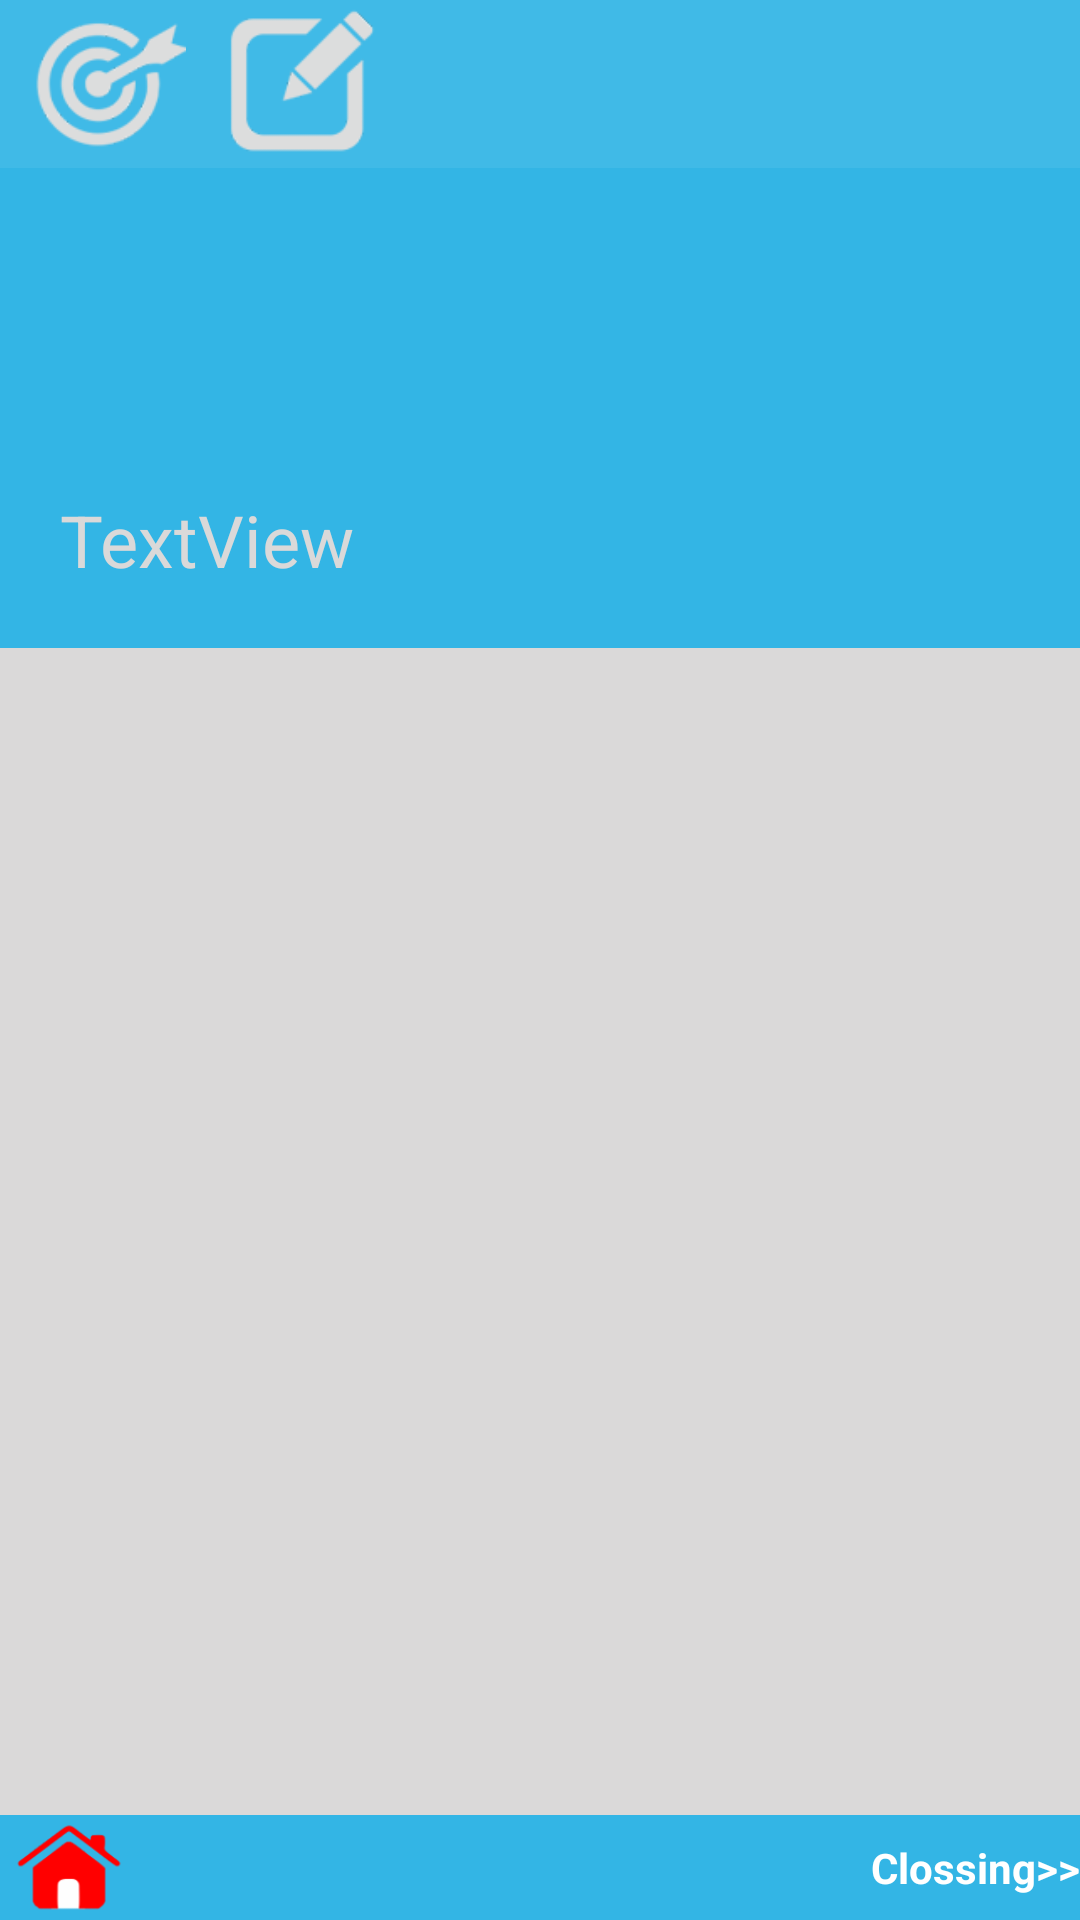

Icons on this 1080×1920 Android screen, each with the point to tap as (x=x, y=y):
entry: (x=302, y=81)
home: (x=69, y=1867)
mission: (x=111, y=84)
